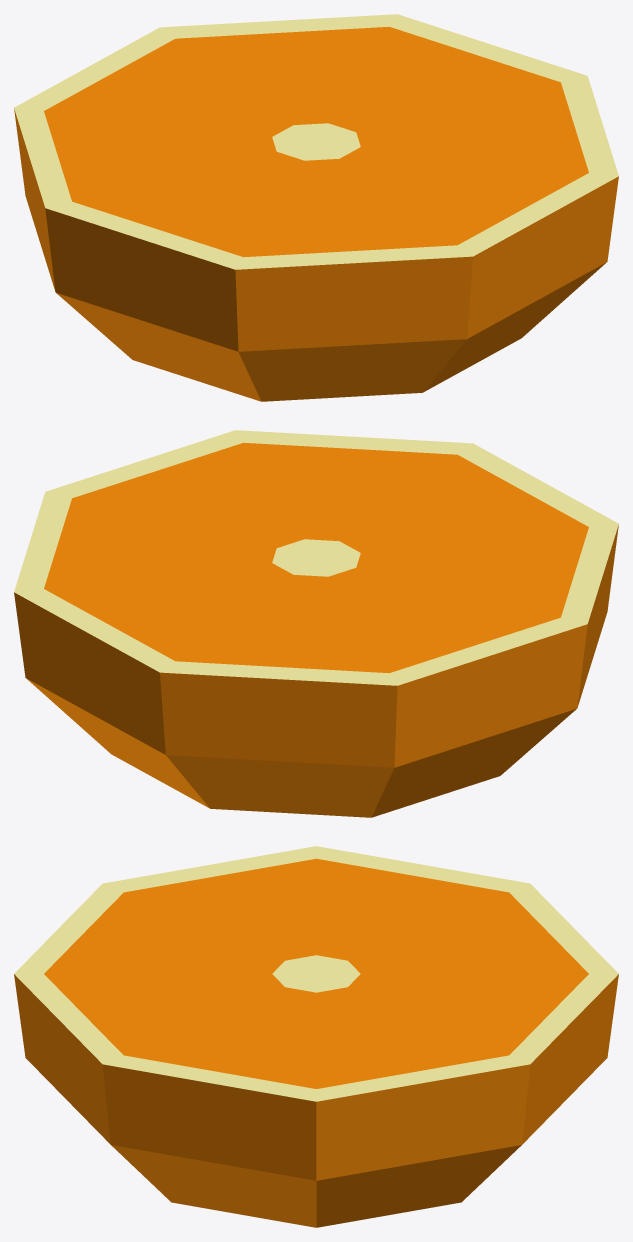
File: orange02.obj
3 renders of one model, top to bottom at view 1: azimuth 30°, elevation 25°; view 2: azimuth 150°, elevation 25°; view 3: azimuth 270°, elevation 25°, orthographic. The views are drawn at different scales.
Visible parts, largest first — view 1: Cylinder; view 2: Cylinder; view 3: Cylinder.
Boxes of the visible parts, left/top/right/bottom form: Cylinder: left=14, top=14, right=618, bottom=401; Cylinder: left=14, top=430, right=618, bottom=817; Cylinder: left=14, top=846, right=618, bottom=1227.
Size of the model in its own units: 0.1047 by 0.0404 by 0.1047.
1 material, 1 textured.
